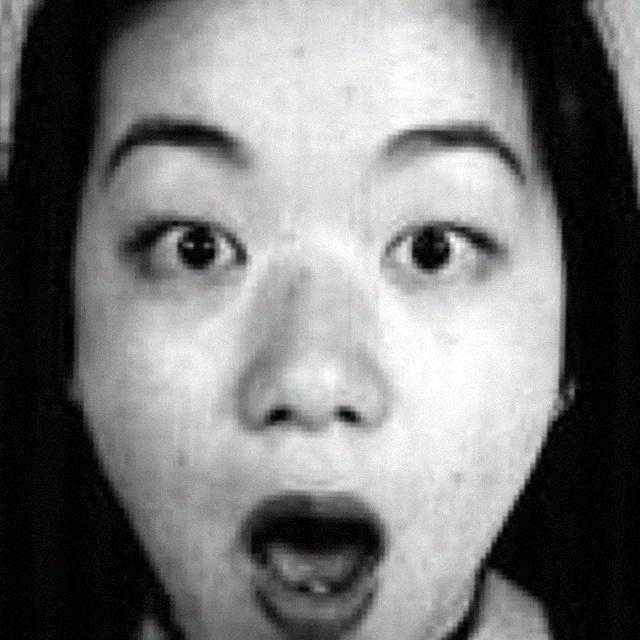surprise: (77, 26, 564, 640)
